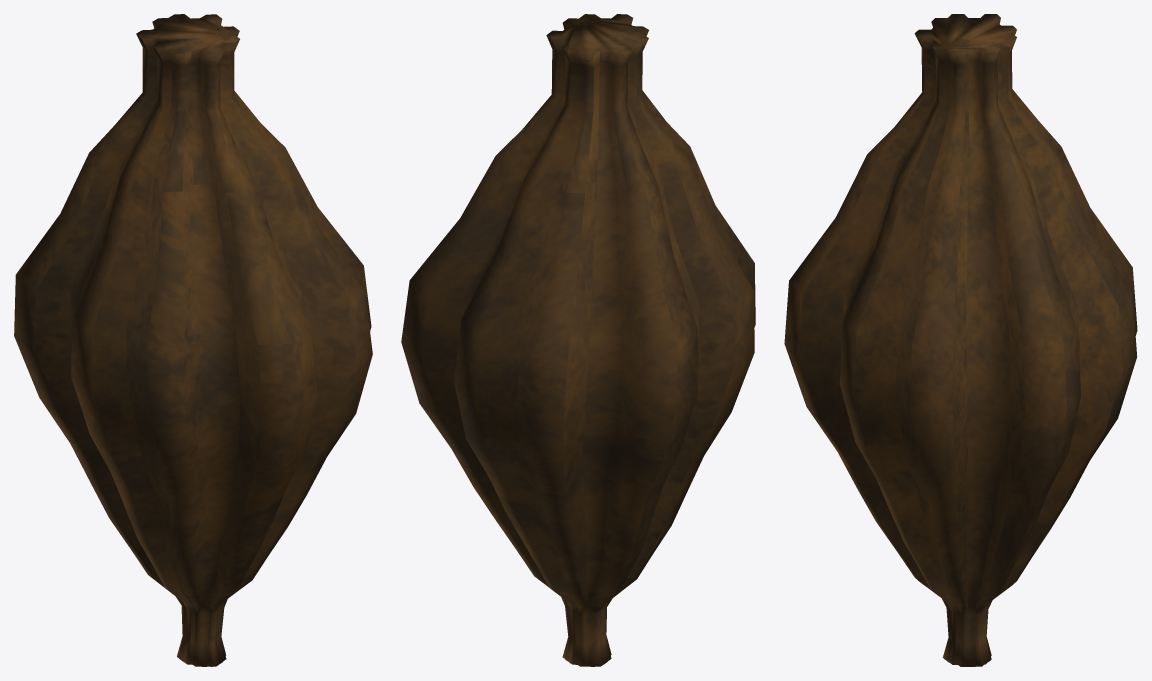
File: honeycomb4.fbx
3 renders of one model, left to right at view 1: azimuth 30°, elevation 25°; view 2: azimuth 150°, elevation 25°; view 3: azimuth 270°, elevation 25°, orthographic.
Visible parts, largest first — view 1: Cube.003; view 2: Cube.003; view 3: Cube.003.
Part boxes in pixels (x1,y1,x2,y2): Cube.003: (14, 14, 372, 666); Cube.003: (401, 14, 755, 666); Cube.003: (784, 14, 1137, 666).
Bounding box in the file's own units: 1983 × 4269 × 2209.
